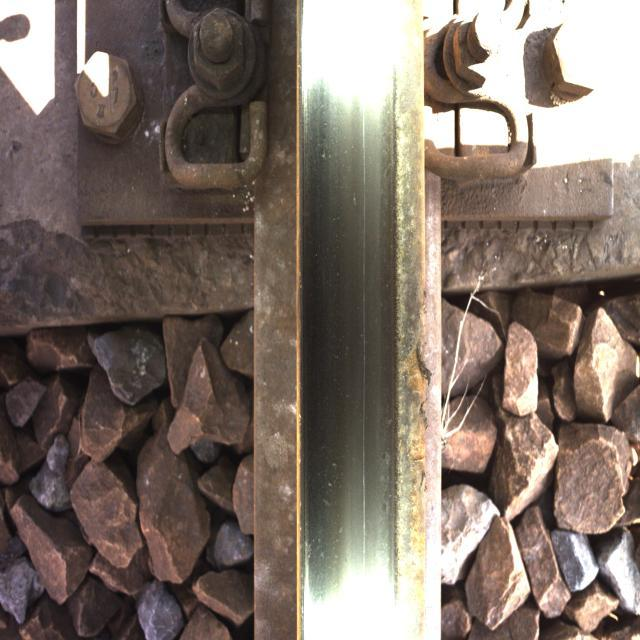scar: (365, 50, 436, 640)
